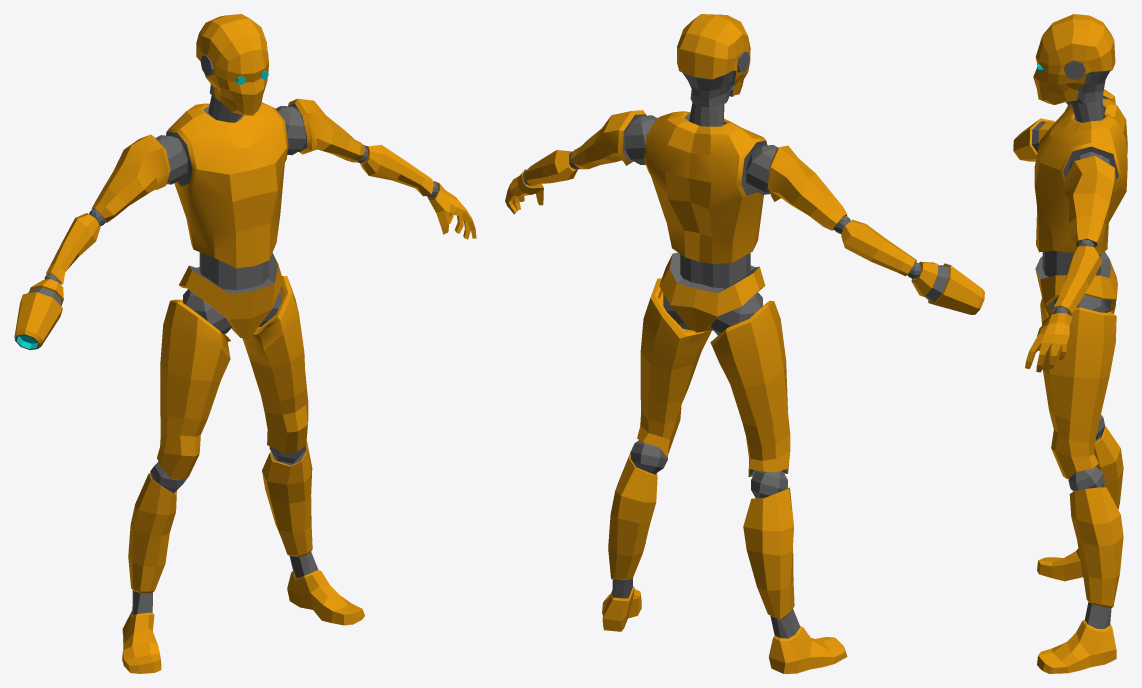
The model's file is dummy_test.fbx.
3 views of the same model, side by side, from view 1: azimuth 30°, elevation 25°; view 2: azimuth 150°, elevation 25°; view 3: azimuth 270°, elevation 25° (orthographic). The views are drawn at different scales.
Visible parts, largest first — view 1: Base1:Male:Base1:Male:polySurface80; view 2: Base1:Male:Base1:Male:polySurface80; view 3: Base1:Male:Base1:Male:polySurface80.
Boxes of the visible parts, <box> form: Base1:Male:Base1:Male:polySurface80: <box>14,14,476,673</box>; Base1:Male:Base1:Male:polySurface80: <box>505,14,984,673</box>; Base1:Male:Base1:Male:polySurface80: <box>1013,14,1127,673</box>.
Size of the model in its own units: 8.08 by 10.34 by 1.78.
